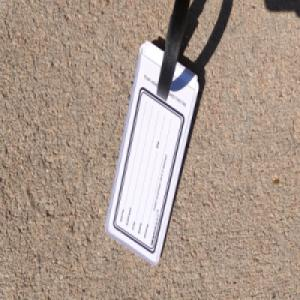LuggageTag: (104, 0, 199, 267)
